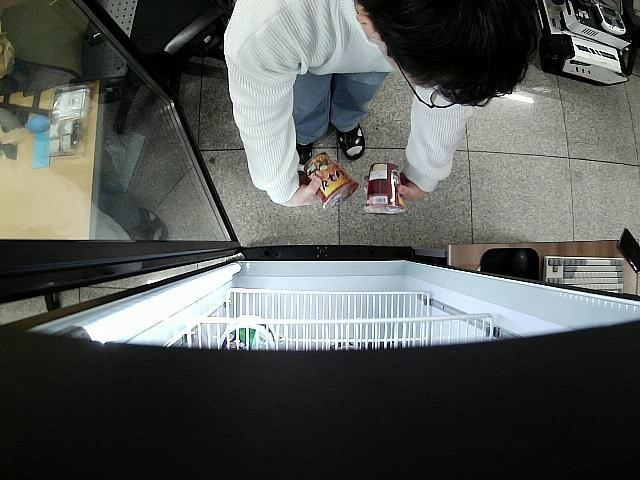06_nuguri_S: (302, 152, 358, 211), (362, 160, 404, 214)
